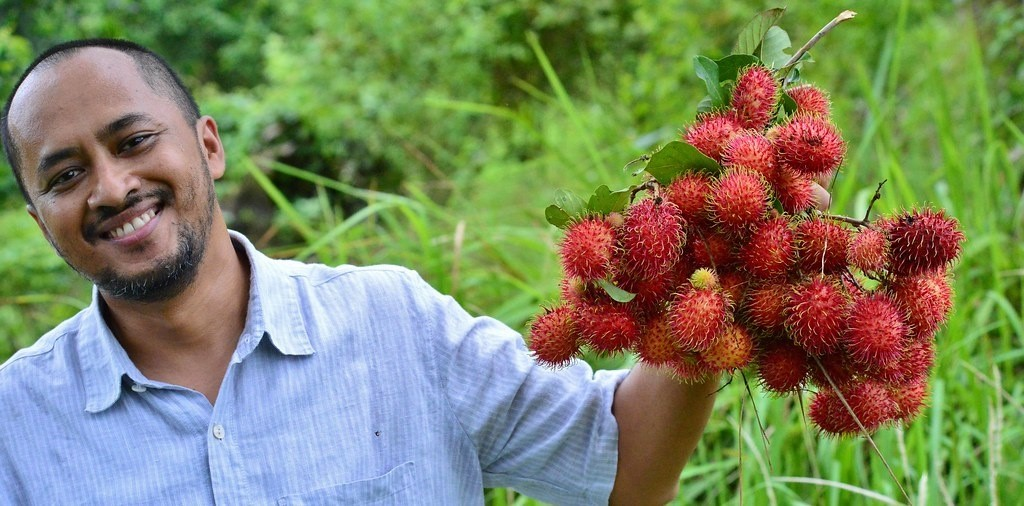face_no_mask: (8, 38, 227, 301)
